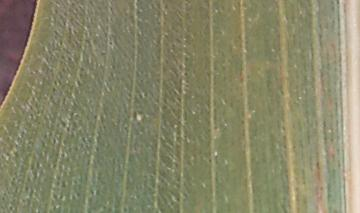tarspot: (50, 86, 58, 94), (107, 39, 114, 47), (52, 79, 59, 87), (89, 189, 95, 197), (92, 113, 98, 120), (207, 157, 213, 164), (335, 1, 341, 6), (109, 5, 113, 12)
